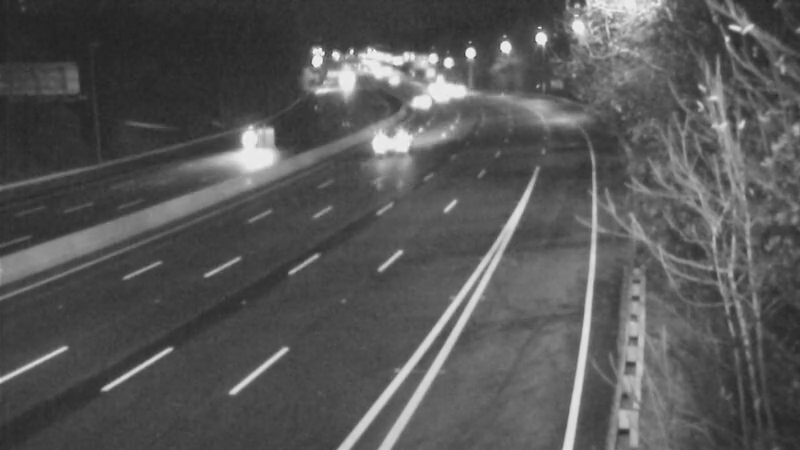vehicle: (418, 70, 468, 120), (398, 75, 448, 125), (370, 113, 420, 163), (227, 112, 277, 162)
